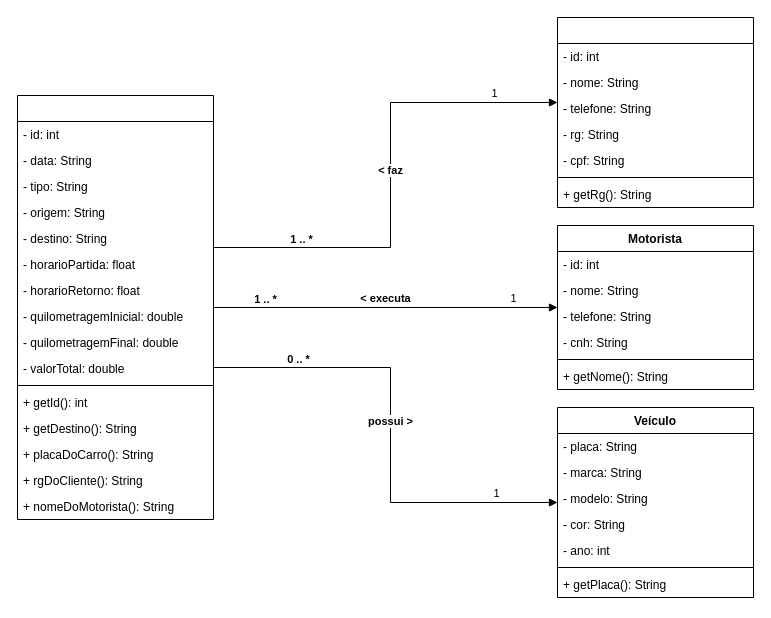
This 771x618 diagram has some shape labels left out. The shapes that lost their labels are listed below. From the top down, each one's box as (x1, y1, x2, y2) in pixels, then its label:
(556, 16, 754, 208): Cliente
(16, 94, 214, 520): Chamado
